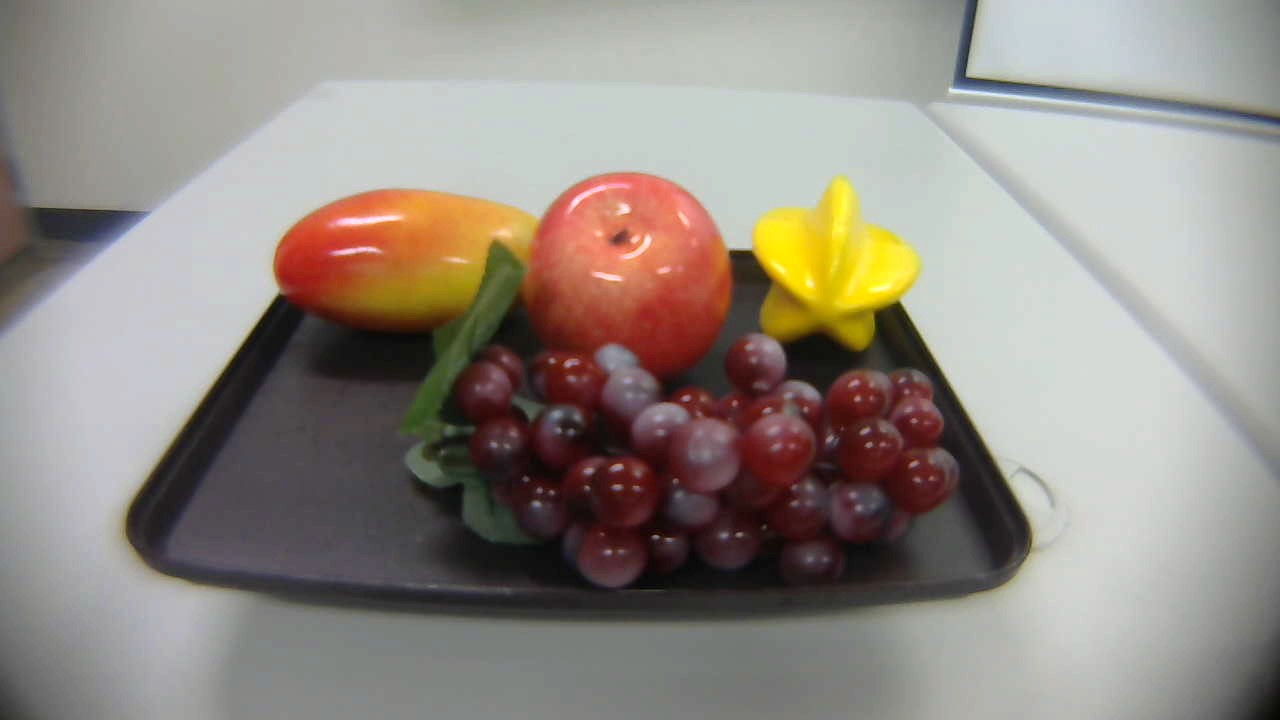grape: (402, 236, 962, 591)
red apple: (528, 169, 732, 384)
red mango: (273, 186, 547, 331)
star fruit: (728, 171, 932, 371)
